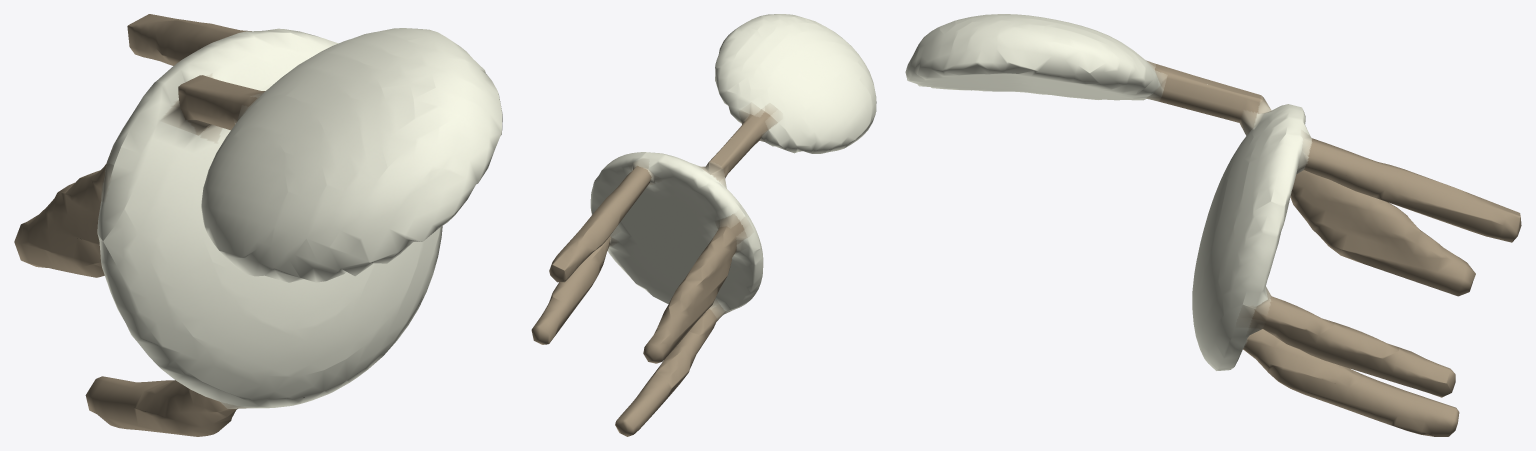
The model's file is chair.gltf.
The picture shows the model from 3 angles, left to right: view 1: azimuth 30°, elevation 25°; view 2: azimuth 150°, elevation 25°; view 3: azimuth 270°, elevation 25°; orthographic projection. The views are drawn at different scales.
Parts seen in each view (by area): view 1: Layer_2; view 2: Layer_2; view 3: Layer_2.
Part boxes in pixels (x1,y1,x2,y2): Layer_2: [14, 14, 502, 436]; Layer_2: [531, 14, 876, 436]; Layer_2: [905, 14, 1521, 436].
Size of the model in its own units: 10.52 by 15.95 by 21.14.
1 material, 1 textured.
